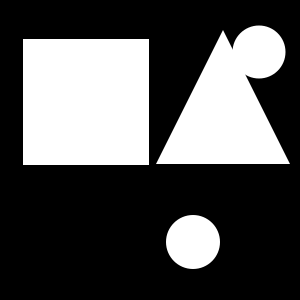circle: (23, 39, 149, 165), (118, 45, 139, 66)
rectangle: (166, 215, 220, 269), (232, 26, 286, 78)
triangle: (156, 30, 290, 164)
